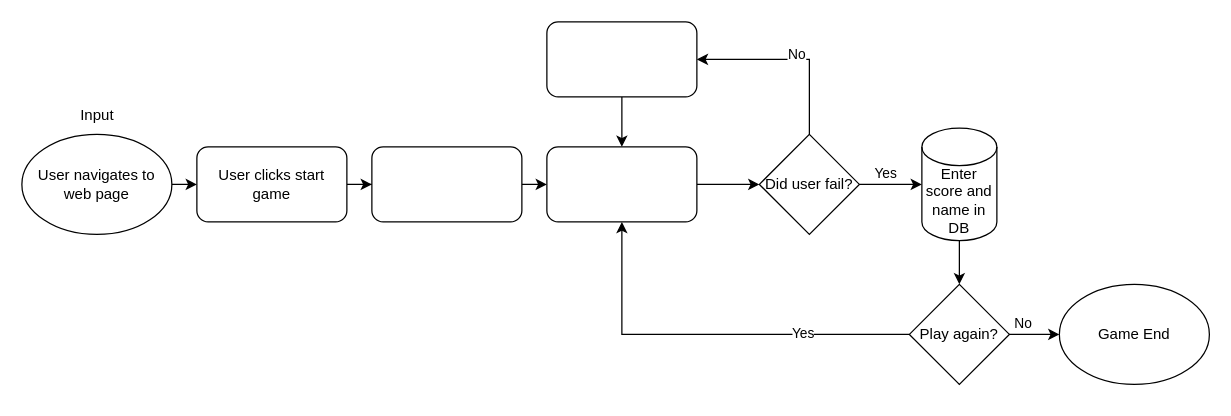
Image size: 1231x416. Some labels were removed from this diagram. The shapes that lost their labels are listed below. From the top down, each one's centre as x and y in pixels, then its label:
At (x=621, y=59): "Randomize next food making task".
At (x=446, y=184): "User enters game play tutorial".
At (x=621, y=184): "User has to make food in the game".
